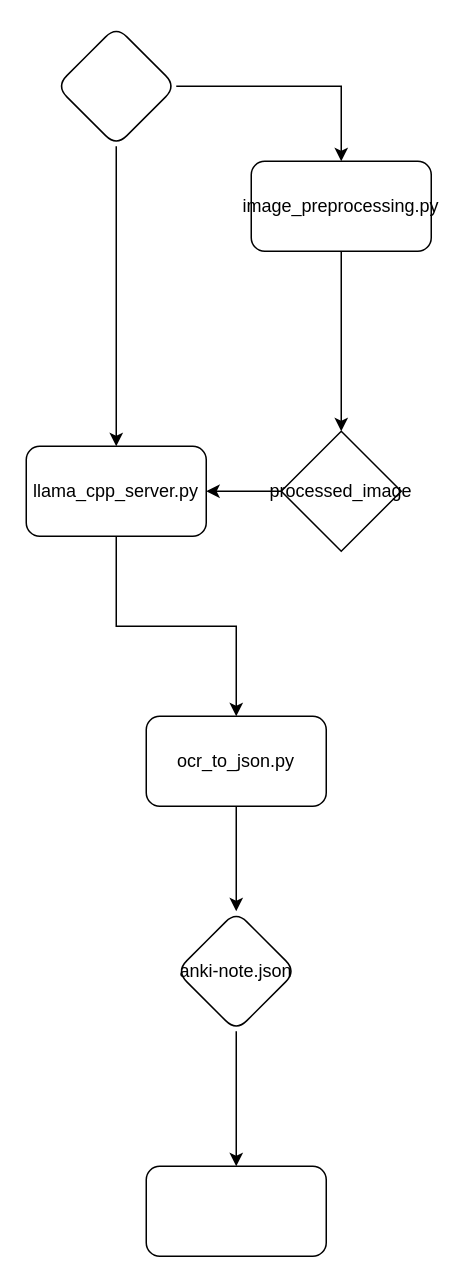
This 465x1283 diagram has some shape labels left out. Here are the shapes that lost their labels. From the top down, the centre of each, then its label:
At pixel 115 85: "image".
At pixel 235 1210: "anki_importer.py".
